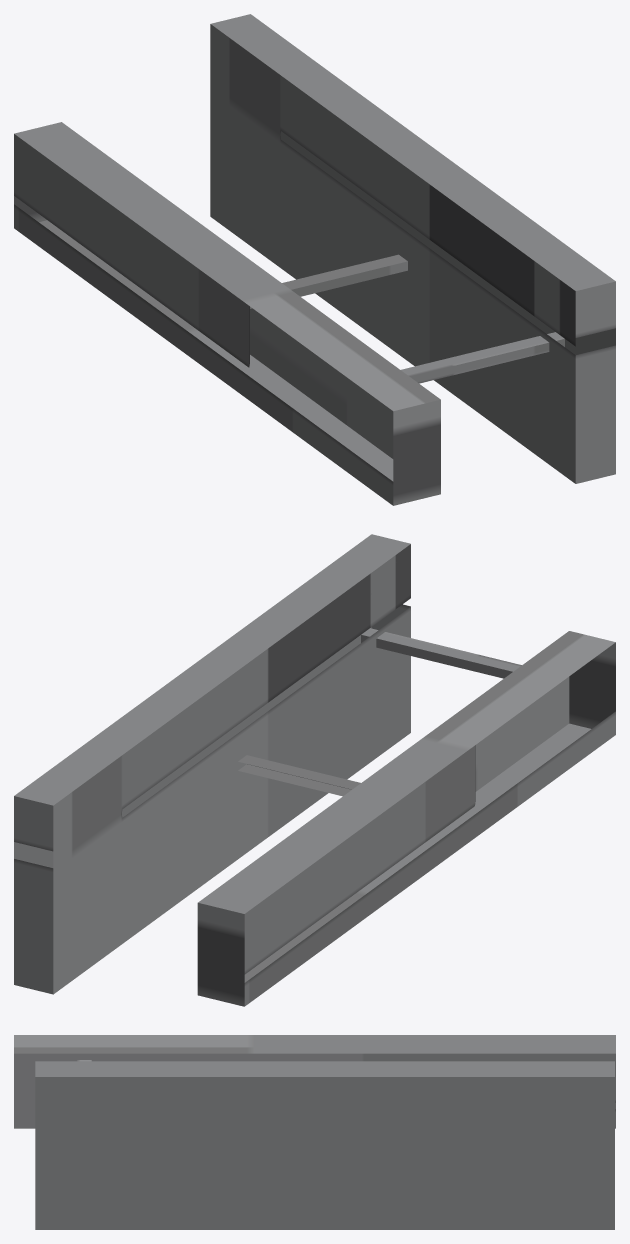
3 views of the same model, one above another, from view 1: azimuth 30°, elevation 25°; view 2: azimuth 150°, elevation 25°; view 3: azimuth 270°, elevation 25° (orthographic). The views are drawn at different scales.
Bounding box in the file's own units: 0.6649 × 0.5192 × 1.85.
